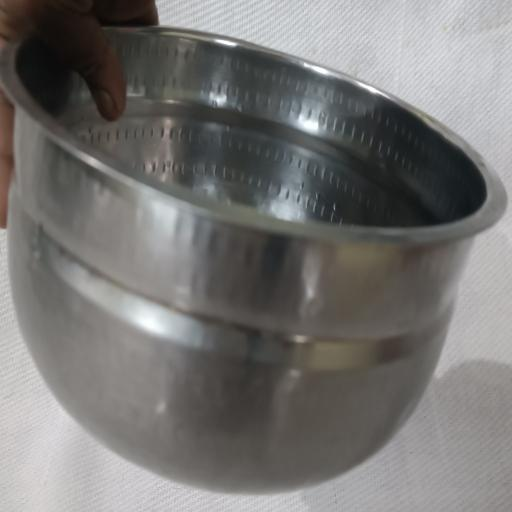vessel: (0, 26, 507, 493)
